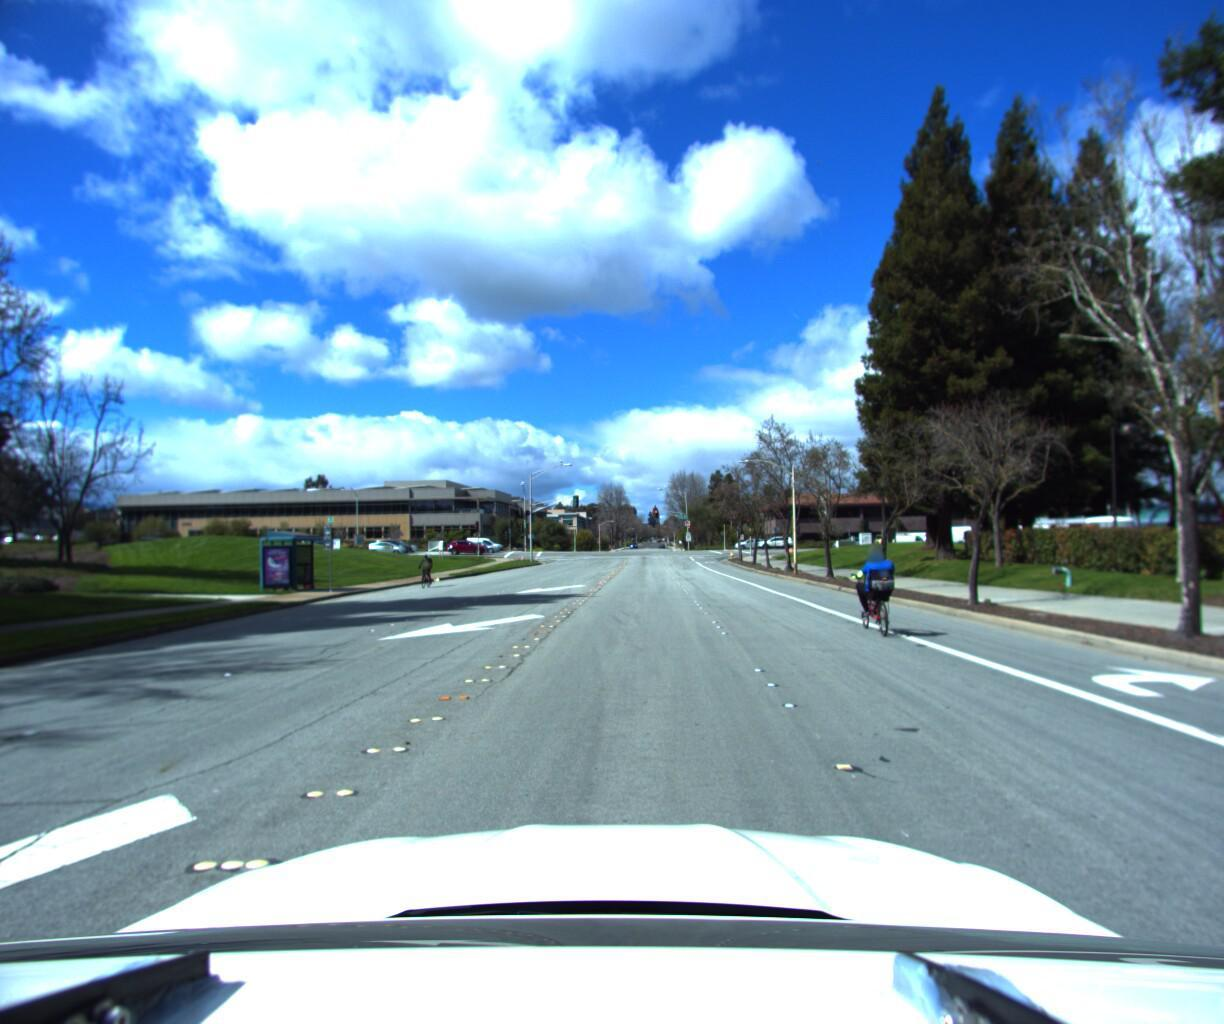bicycle: (836, 538, 907, 637), (411, 555, 439, 592)
